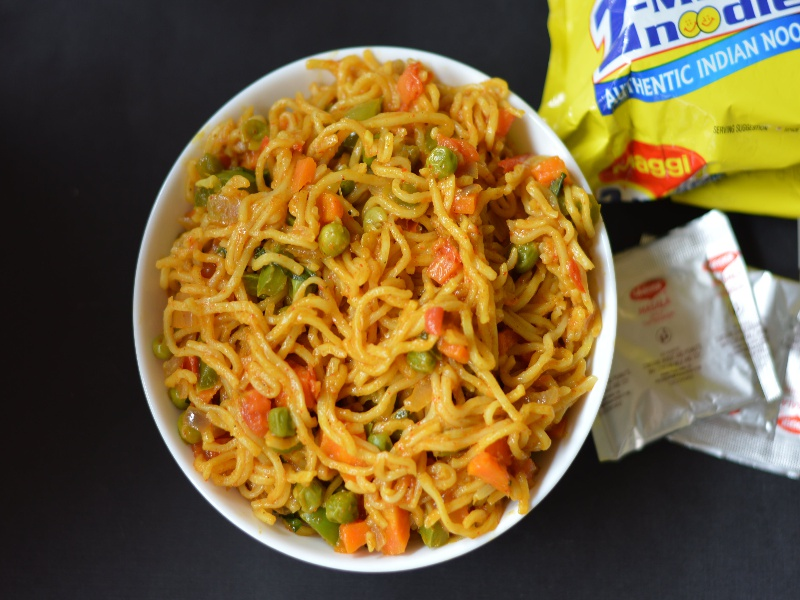maggi: (97, 39, 610, 578)
